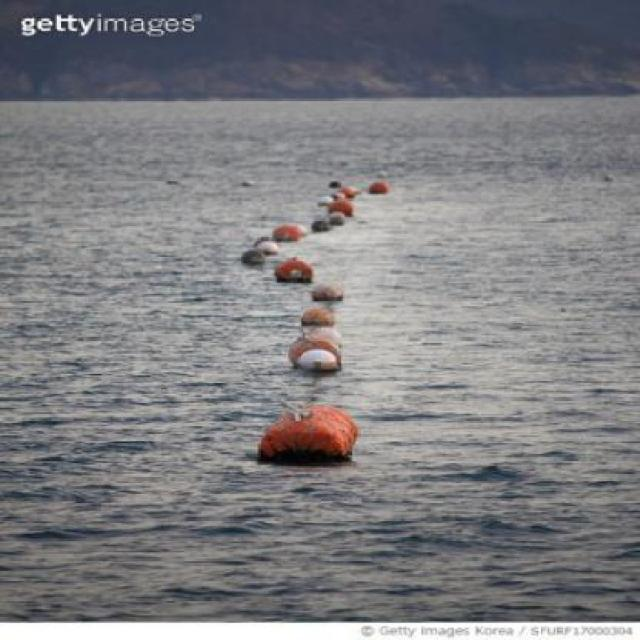a: (254, 396, 371, 468), (272, 320, 359, 377), (276, 246, 325, 297)
